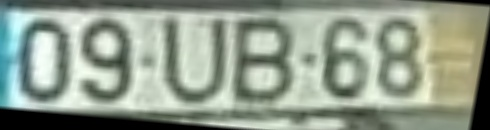0: (13, 17, 74, 106)
6: (317, 14, 373, 103)
8: (373, 14, 426, 101)
9: (75, 14, 136, 108)
B: (230, 16, 298, 107)
U: (158, 16, 229, 107)
